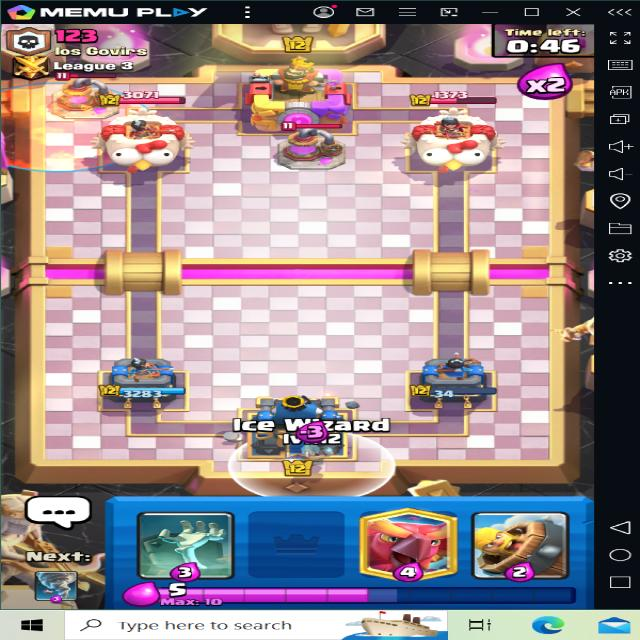elixir-collector: (42, 71, 124, 128), (270, 123, 354, 172)
